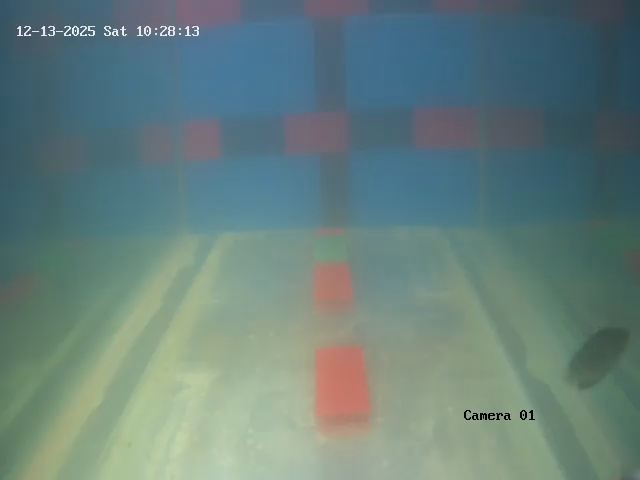fish: (570, 318, 632, 390)
